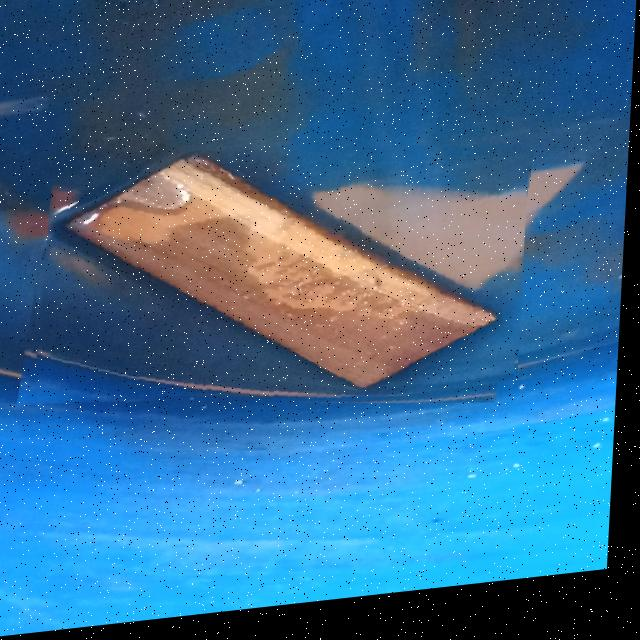litter: (26, 127, 533, 444)
